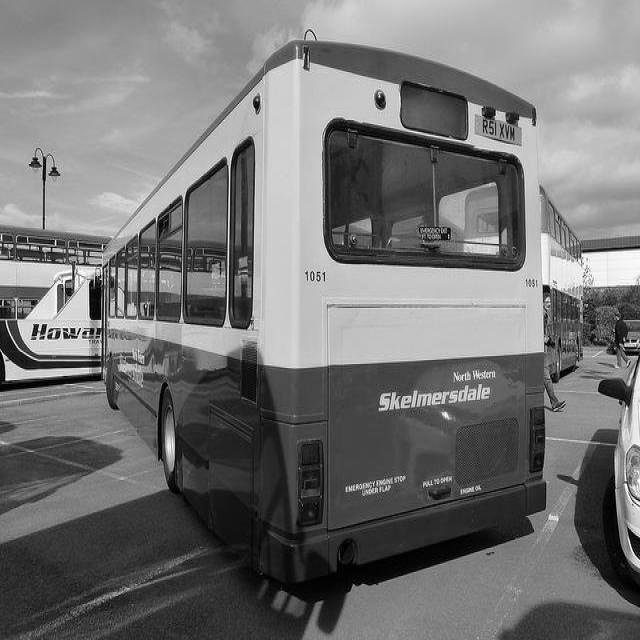vehicle: (97, 36, 550, 596), (0, 223, 111, 386), (597, 356, 639, 584), (542, 188, 584, 384), (611, 320, 640, 354)
